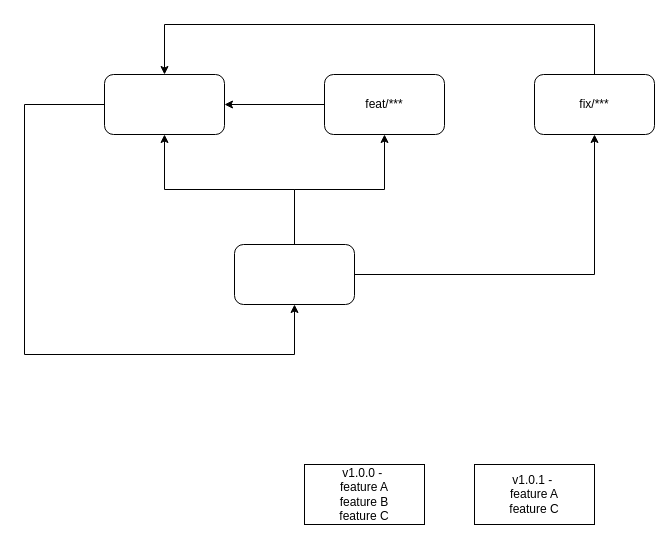
Image size: 672x542. Some labels were removed from this diagram. Here are the shapes that lost their labels. From the top down, the centre of each, then its label:
At point (164, 104): "release/v1...".
At point (294, 274): "prd".
